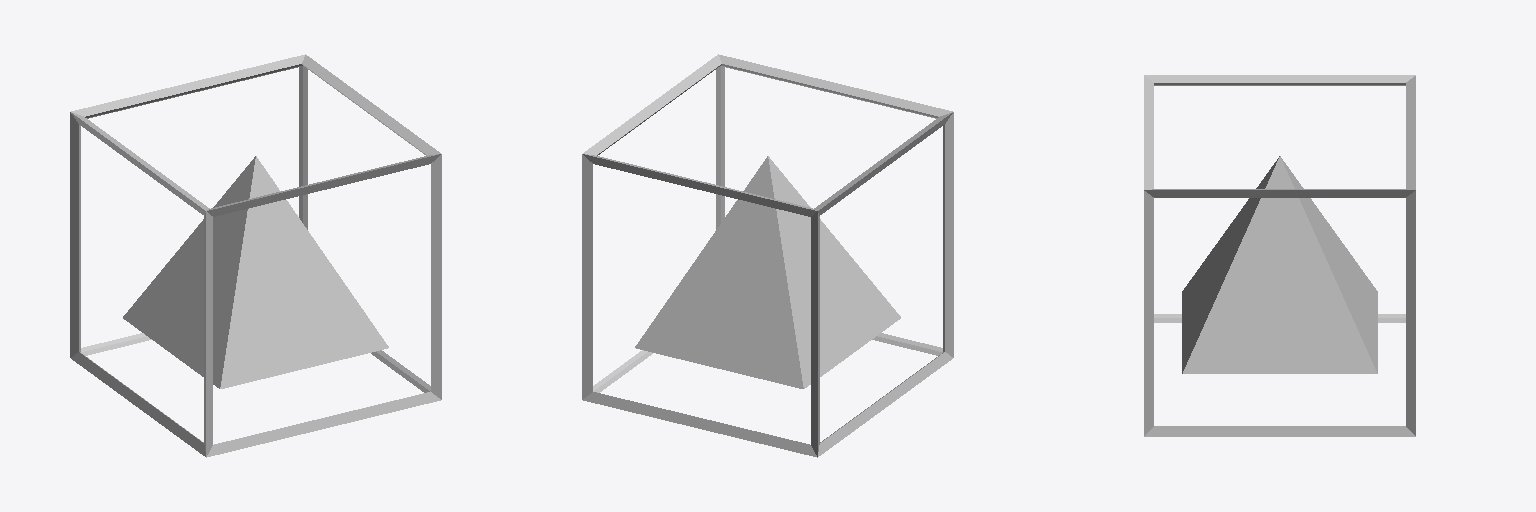
Rendered from Pyramideform_Trigger.obj.
The picture shows the model from 3 angles: view 1: azimuth 30°, elevation 25°; view 2: azimuth 150°, elevation 25°; view 3: azimuth 270°, elevation 25°; orthographic projection.
Visible parts, largest first — view 1: Pyramidenform_Trigger1_Cube.010; view 2: Pyramidenform_Trigger1_Cube.010; view 3: Pyramidenform_Trigger1_Cube.010.
Part boxes in pixels (x1,y1,x2,y2): Pyramidenform_Trigger1_Cube.010: (70, 54, 441, 457); Pyramidenform_Trigger1_Cube.010: (582, 54, 953, 457); Pyramidenform_Trigger1_Cube.010: (1144, 75, 1415, 436).
Bounding box in the file's own units: 1.03 × 1.03 × 1.03.